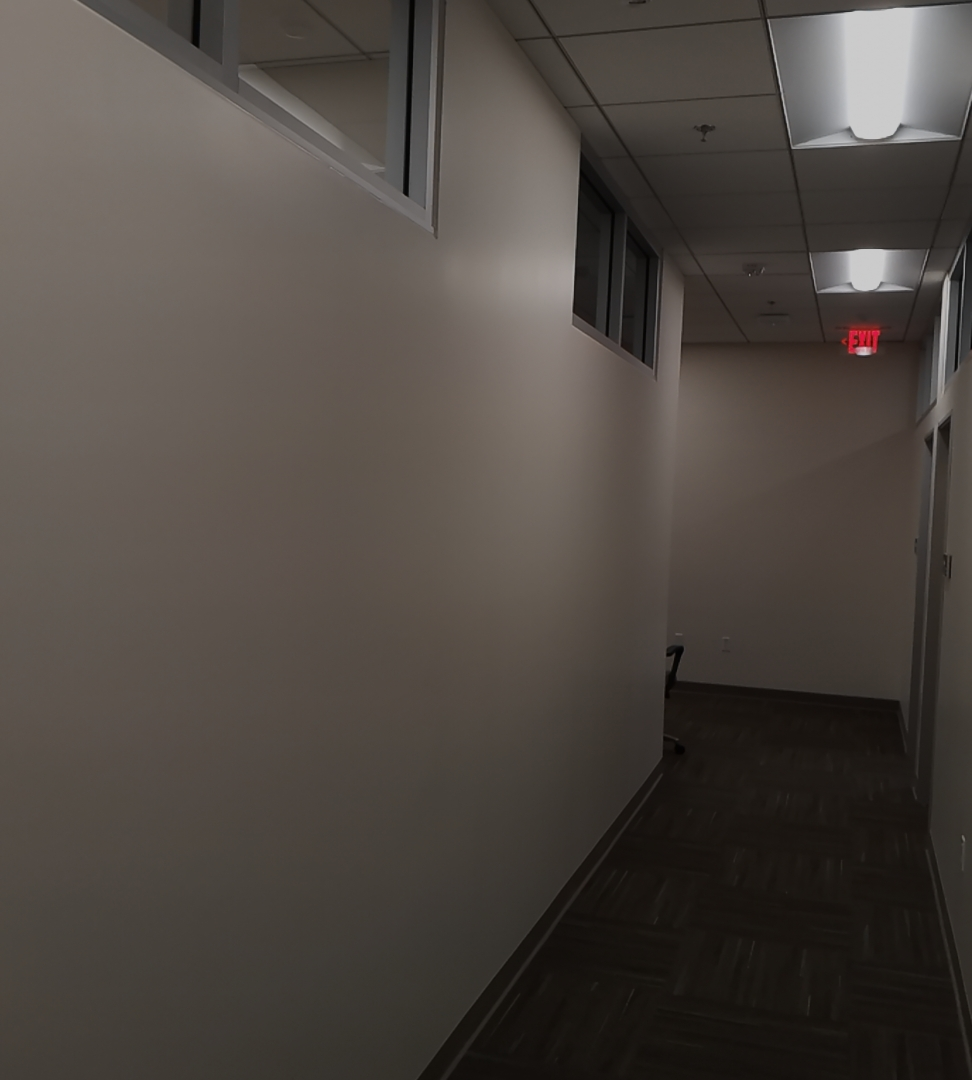emergency_exit: (840, 324, 883, 357)
